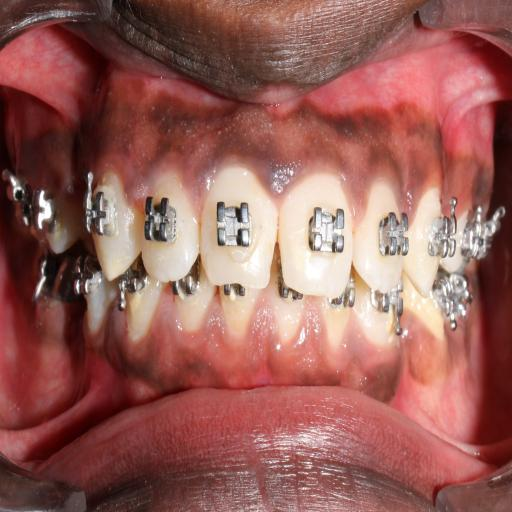correct_brace: (212, 196, 255, 252), (305, 201, 347, 257), (376, 200, 409, 266), (143, 191, 180, 245), (430, 209, 461, 264), (84, 189, 114, 242)
incorrect_brace: (139, 161, 205, 283), (354, 165, 408, 294)
